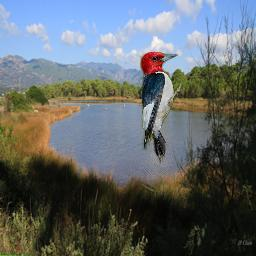Woodpecker: (138, 52, 185, 166)
